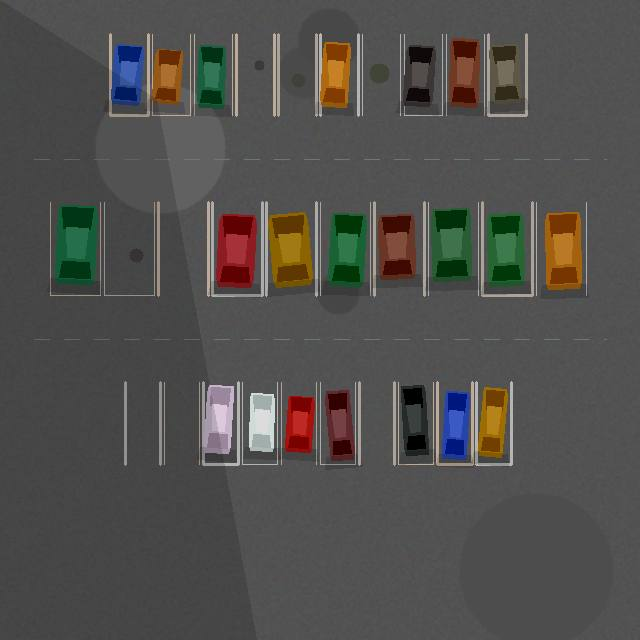space-empty: (104, 202, 154, 295), (158, 202, 208, 295), (236, 34, 274, 115), (278, 34, 316, 115), (362, 34, 400, 115), (125, 382, 160, 464), (164, 382, 199, 464), (359, 382, 394, 464)
space-occupied: (50, 202, 100, 295), (212, 202, 262, 295), (266, 202, 316, 295), (320, 202, 370, 295), (374, 202, 424, 295), (428, 202, 478, 295), (482, 202, 532, 295), (536, 202, 586, 295), (110, 34, 148, 115), (152, 34, 190, 115), (194, 34, 232, 115), (320, 34, 358, 115), (404, 34, 442, 115), (446, 34, 484, 115), (488, 34, 526, 115), (203, 382, 238, 464), (242, 382, 277, 464), (281, 382, 316, 464), (320, 382, 355, 464), (398, 382, 433, 464), (437, 382, 472, 464), (476, 382, 511, 464)
